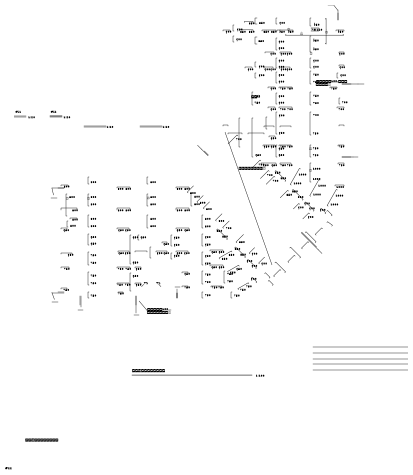wall: (221, 142, 270, 312), (301, 162, 318, 184)
